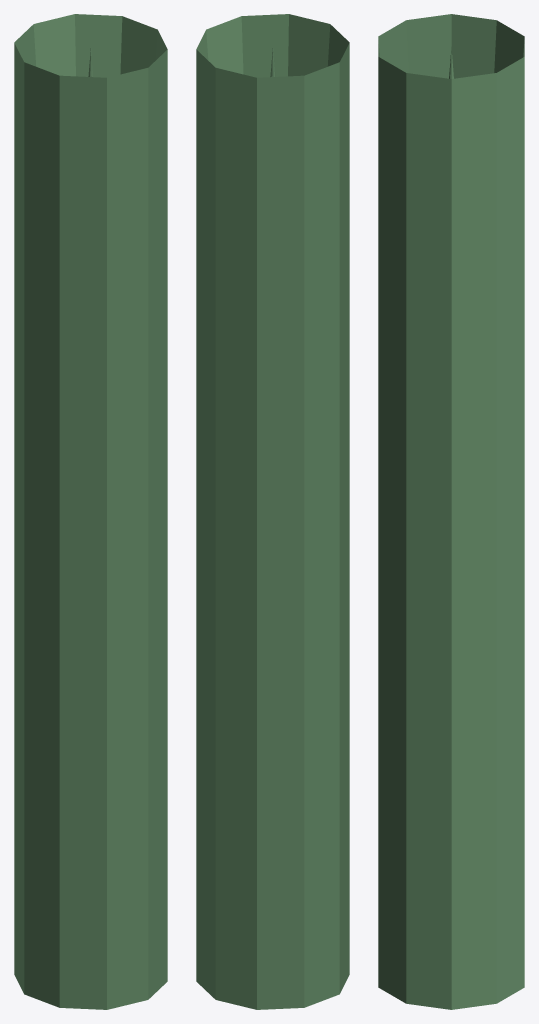
The model's file is cyl_stem.gltf.
The picture shows the model from 3 angles, left to right: view 1: azimuth 30°, elevation 25°; view 2: azimuth 150°, elevation 25°; view 3: azimuth 270°, elevation 25°; orthographic projection.
Visible parts, largest first — view 1: mesh; view 2: mesh; view 3: mesh.
Boxes of the visible parts, left/top/right/bottom form: mesh: left=14, top=14, right=167, bottom=1009; mesh: left=196, top=14, right=349, bottom=1009; mesh: left=378, top=14, right=524, bottom=1009.
Bounding box in the file's own units: 0.06 × 0.4 × 0.0571.
